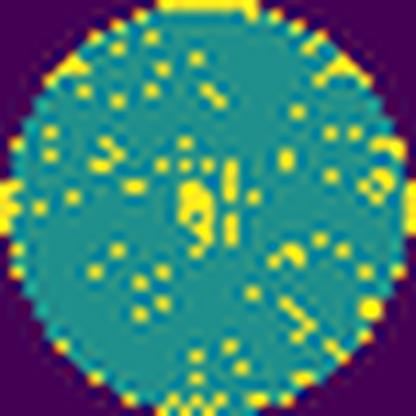Center: (170, 174, 219, 258)
